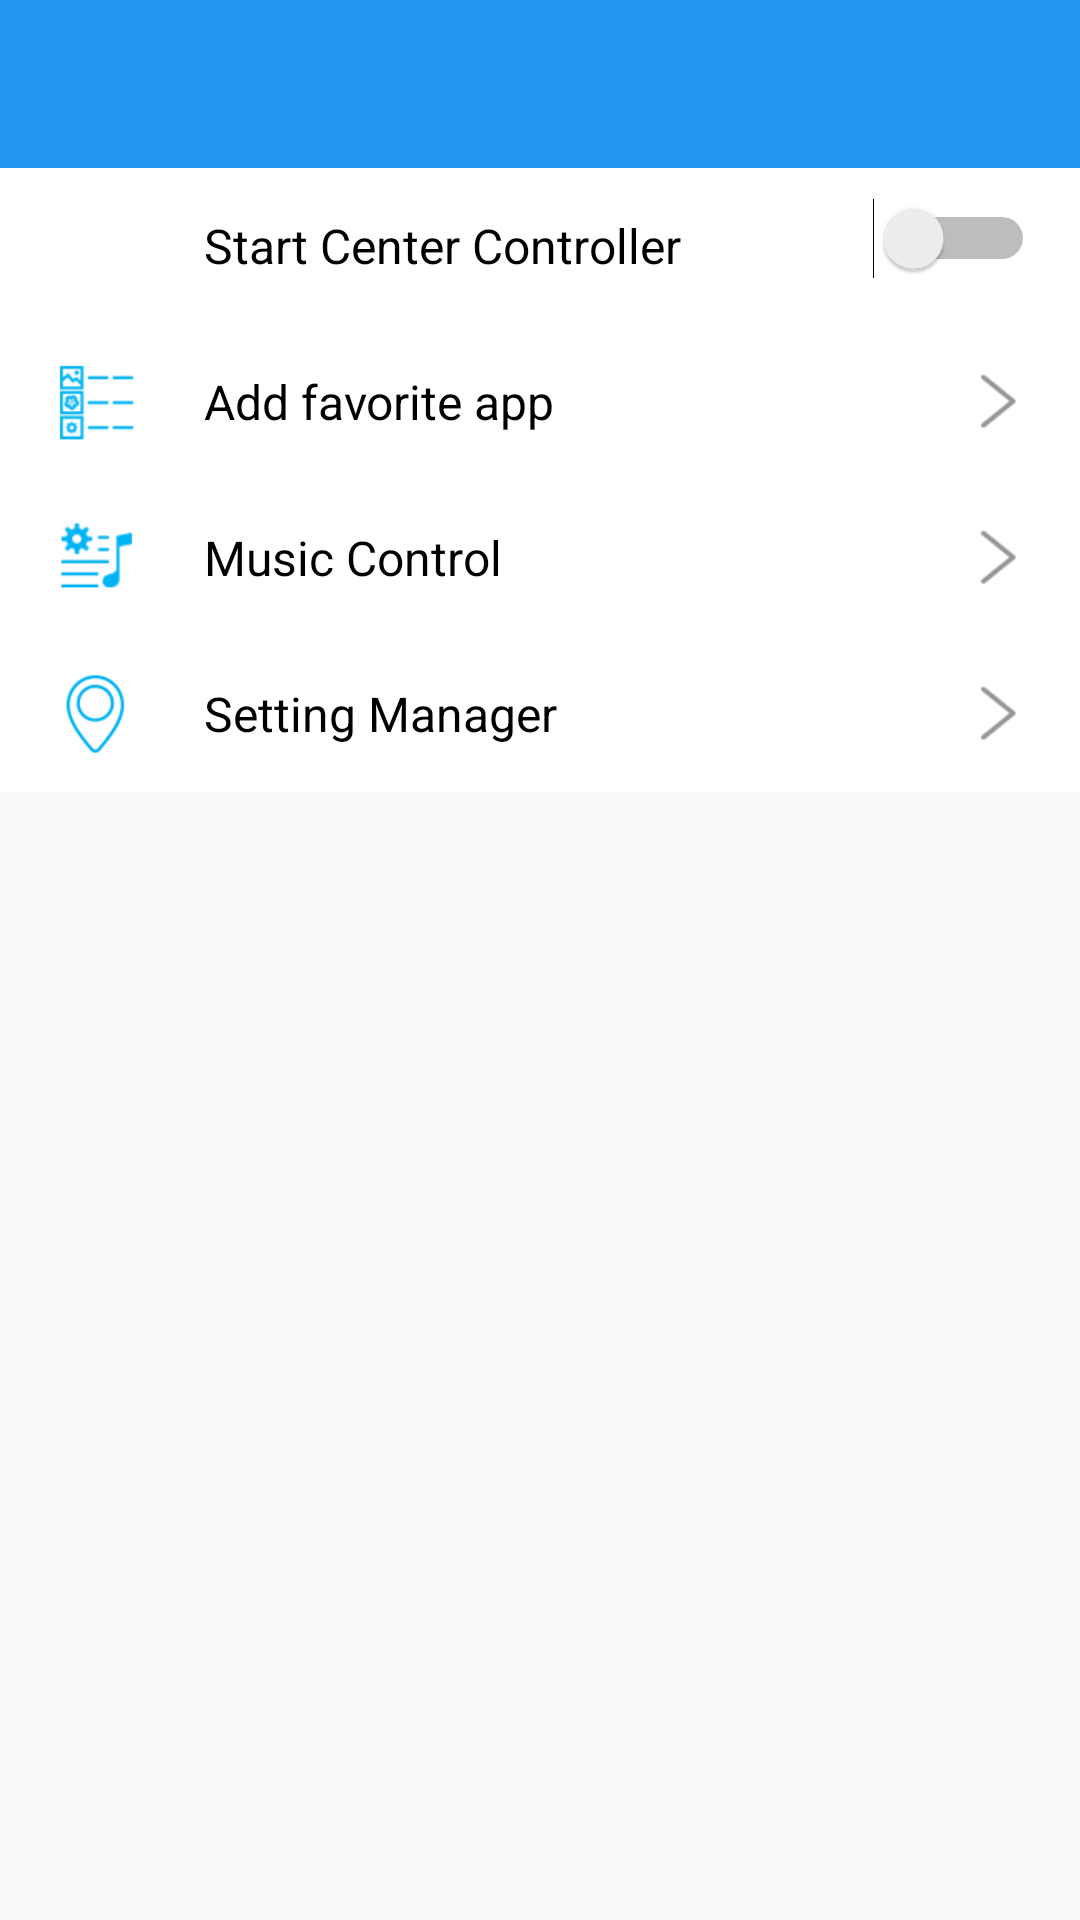

Screen size 1080 × 1920. Icon name, then its center in pixels as [x,y]:
arrow: [998,401], [998,557], [998,713]
set location: [95,714]
